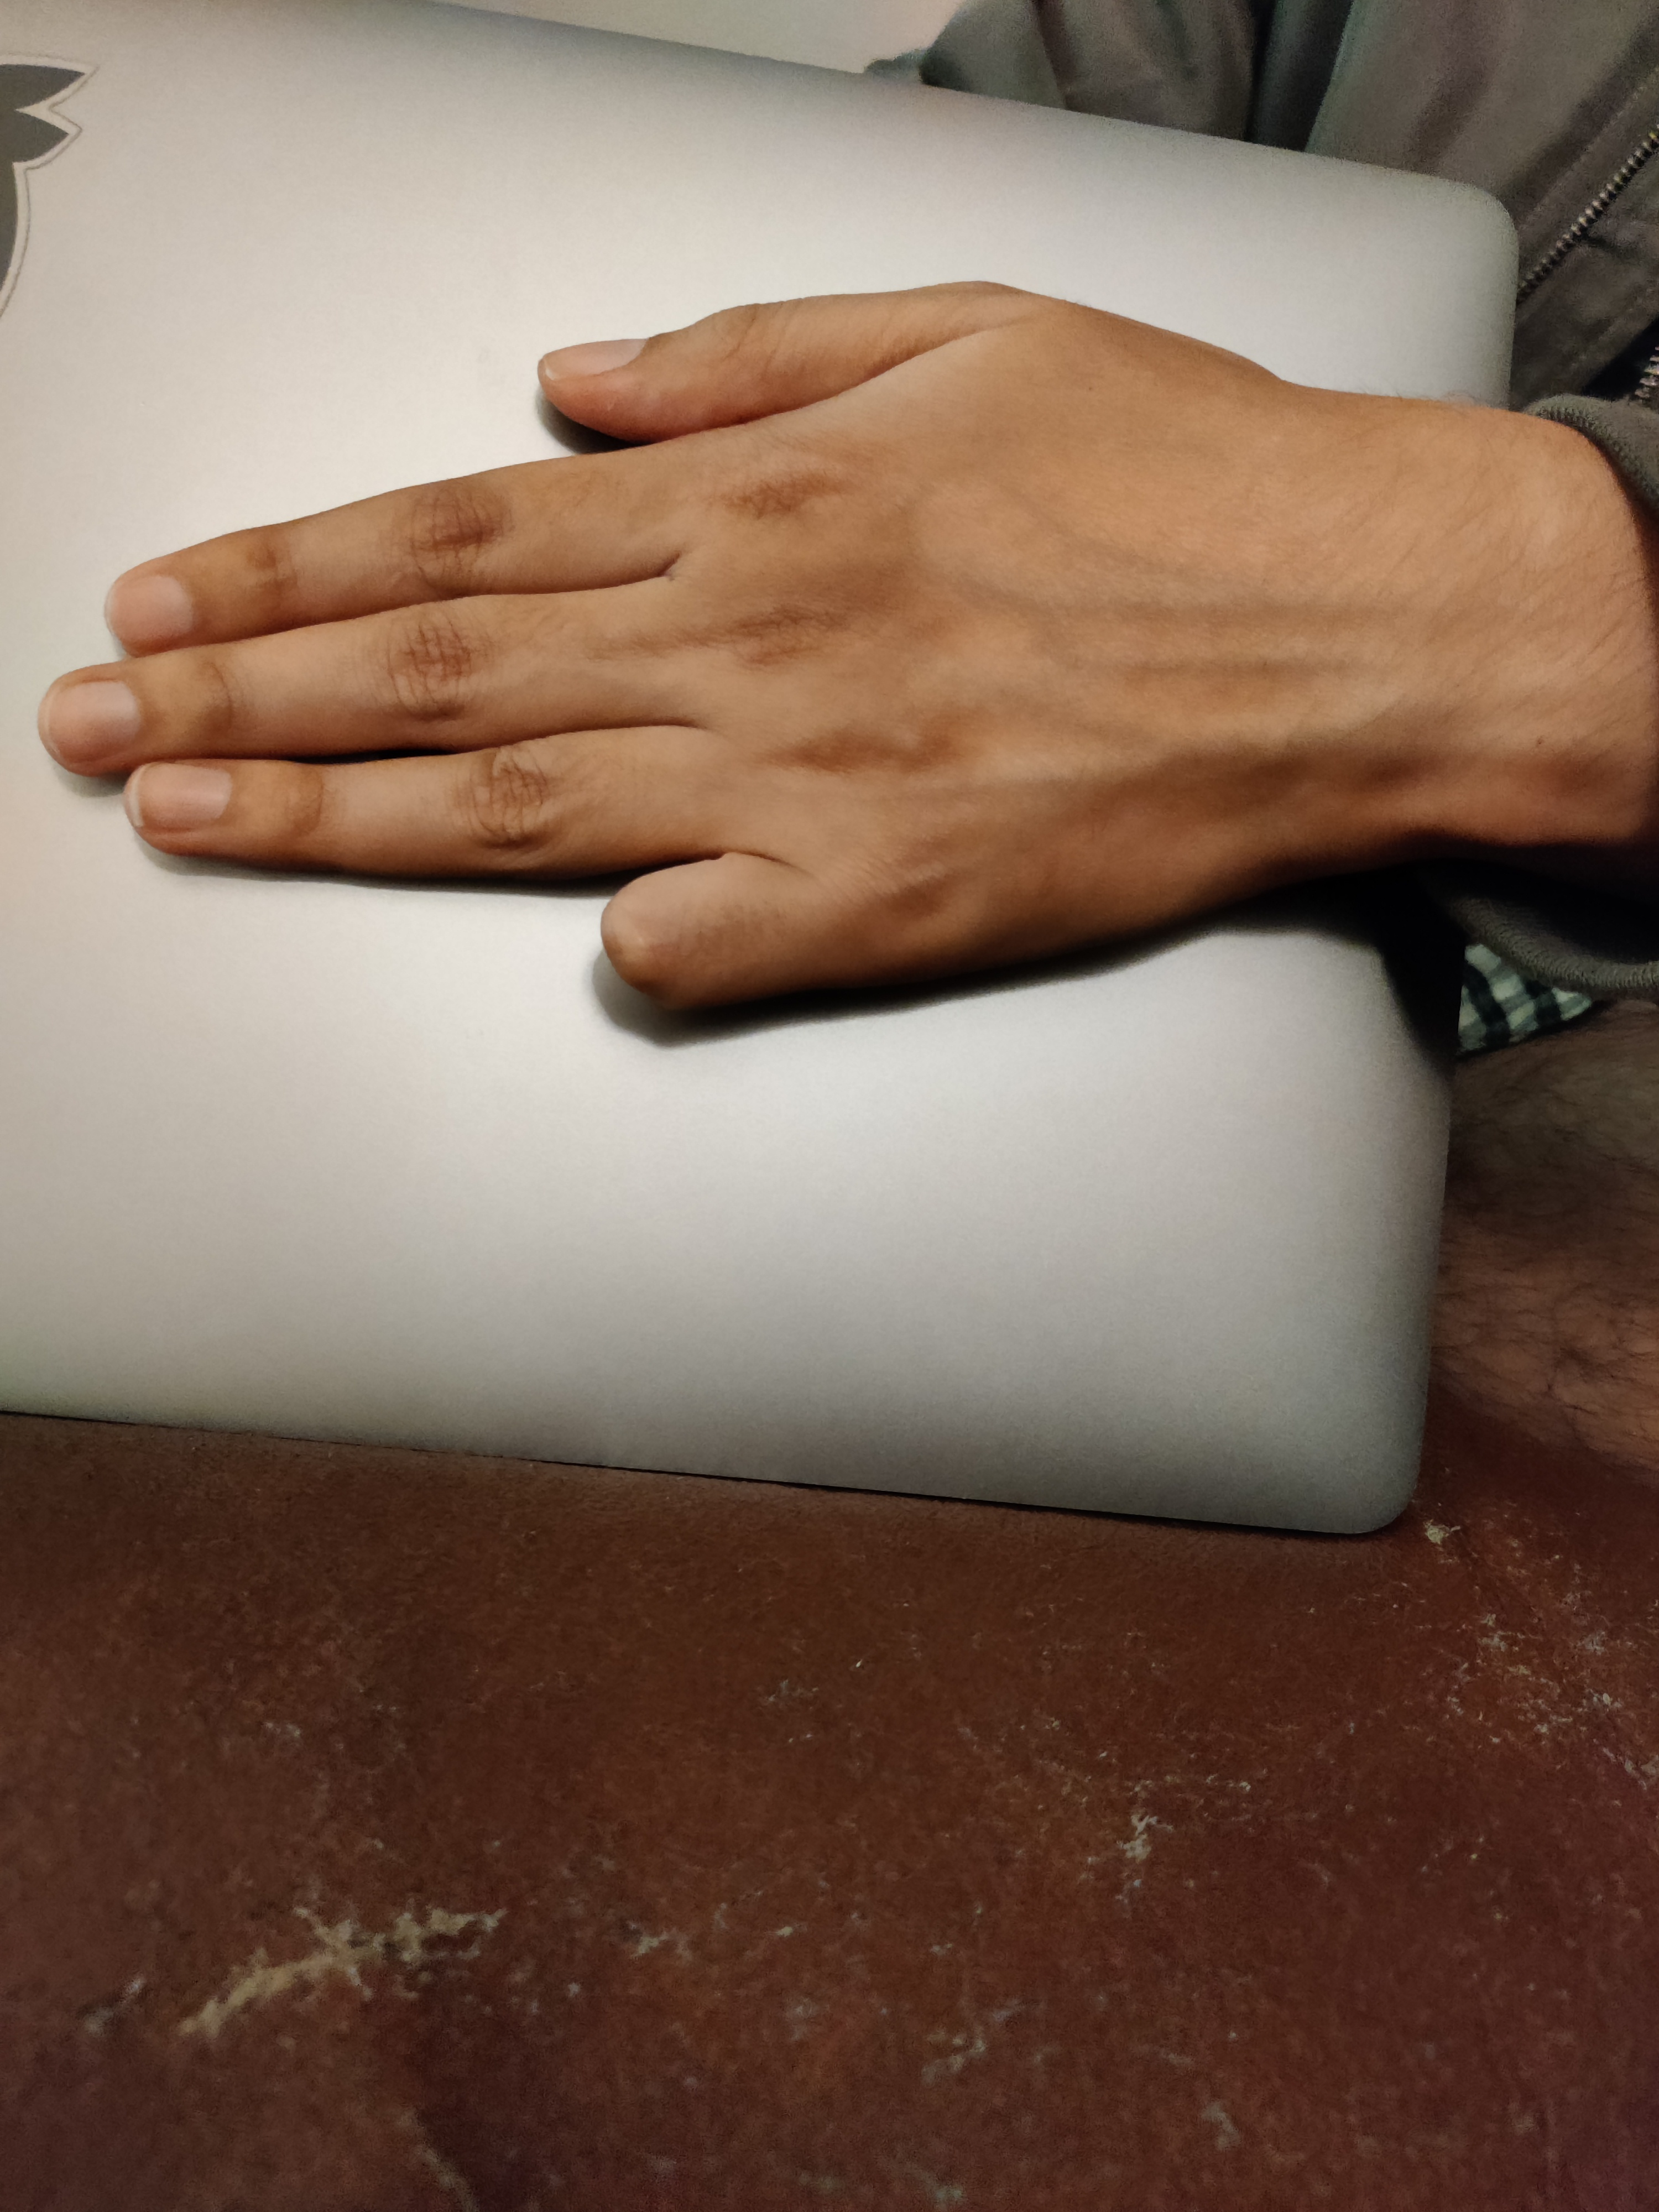right: (26, 138, 1500, 1125)
